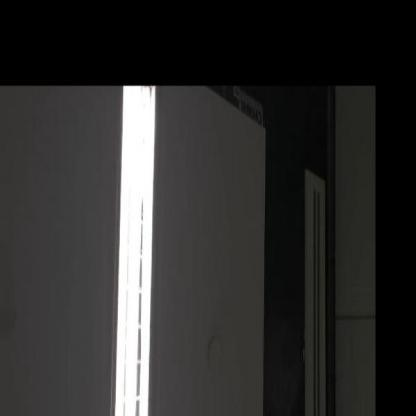light_on: (96, 85, 171, 415)
